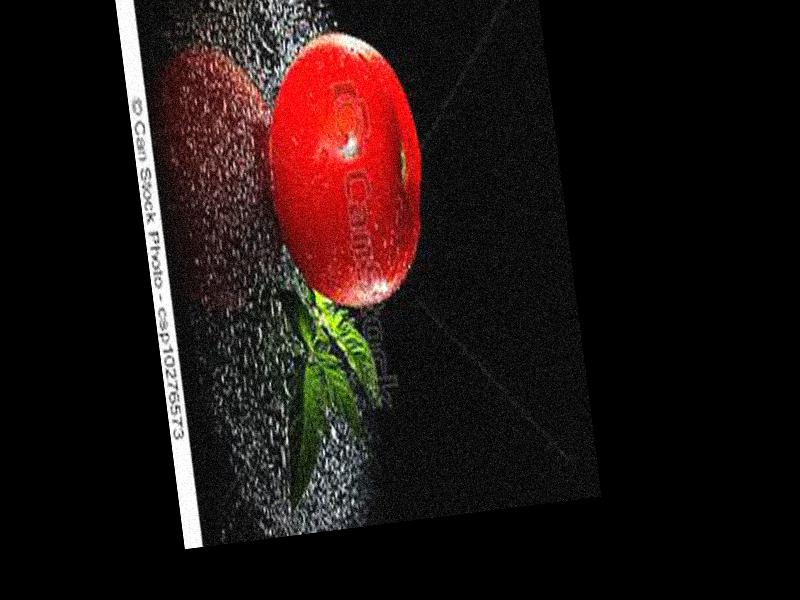Tomato: (254, 25, 438, 315)
